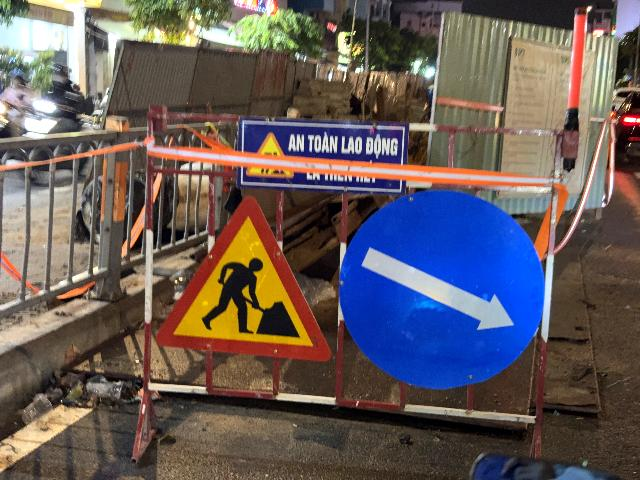cong-truong-dang-thi-cong: (156, 195, 332, 363)
huong-phai-di-vong-chuong-ngai-vat: (338, 188, 544, 388)
